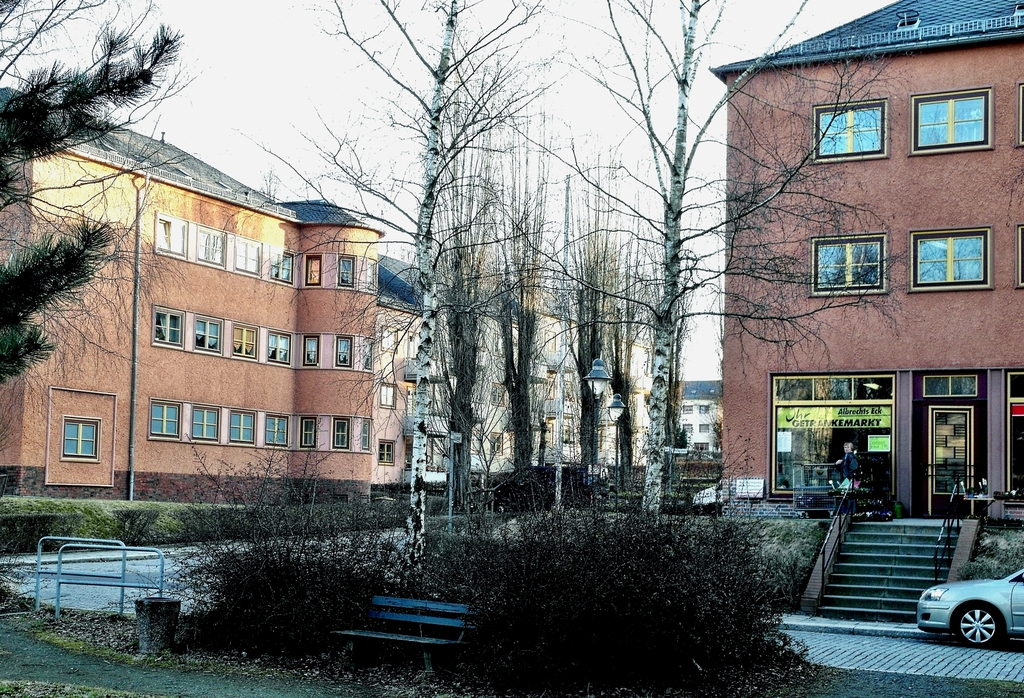Car: (908, 544, 1023, 656)
